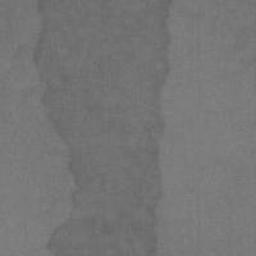Water spot: (32, 0, 175, 256)
